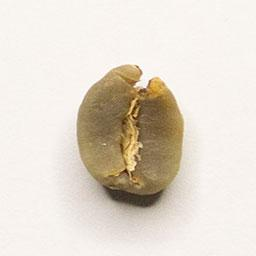defect: (72, 59, 189, 201)
